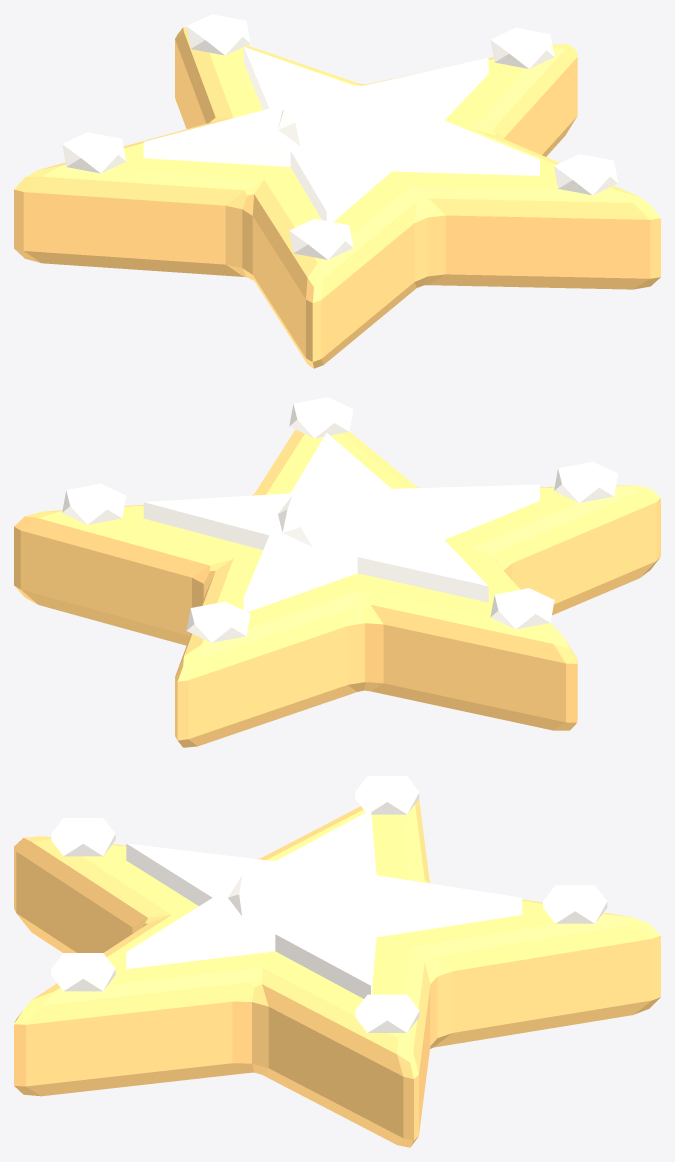
File: xmas_gingerbread_star.glb
The picture shows the model from 3 angles, top to bottom: view 1: azimuth 30°, elevation 25°; view 2: azimuth 150°, elevation 25°; view 3: azimuth 270°, elevation 25°; orthographic projection. The views are drawn at different scales.
Parts seen in each view (by area): view 1: GingerbreadStar; view 2: GingerbreadStar; view 3: GingerbreadStar.
Part boxes in pixels (bbox=[...]): GingerbreadStar: bbox=[14, 14, 660, 368]; GingerbreadStar: bbox=[14, 397, 660, 747]; GingerbreadStar: bbox=[14, 776, 660, 1147].
Bounding box in the file's own units: 1.8 × 0.43 × 1.71.
